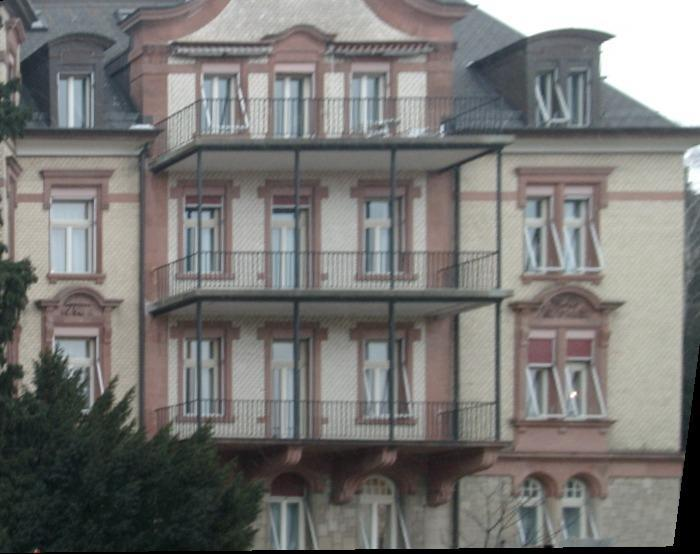window: (50, 186, 99, 275), (271, 195, 311, 289), (274, 341, 311, 438), (365, 195, 410, 272), (366, 339, 407, 421), (55, 336, 97, 415), (182, 340, 224, 416), (187, 199, 228, 274), (565, 475, 607, 547), (270, 475, 311, 547), (359, 476, 400, 548), (515, 474, 556, 546), (525, 330, 557, 421), (568, 329, 600, 419), (275, 73, 312, 138), (56, 72, 94, 129), (203, 74, 237, 135), (351, 74, 385, 135), (538, 68, 557, 128), (569, 67, 588, 127)
